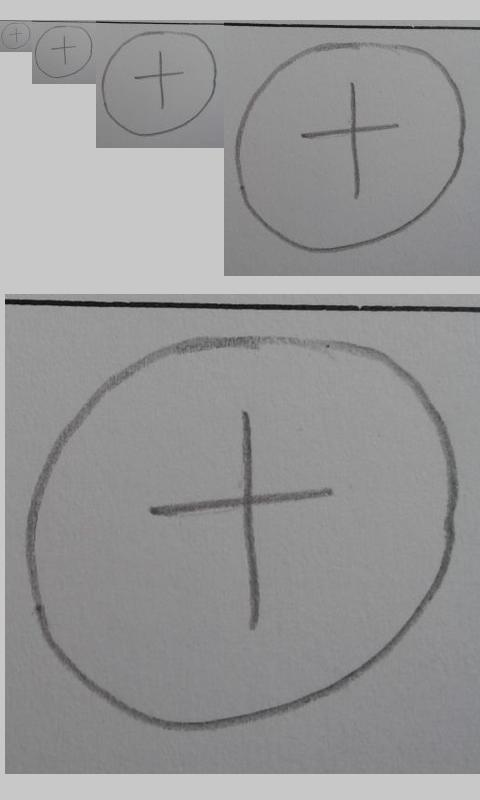button: (24, 336, 462, 736), (235, 41, 466, 254), (101, 30, 219, 138), (34, 25, 93, 79), (1, 22, 31, 50)
